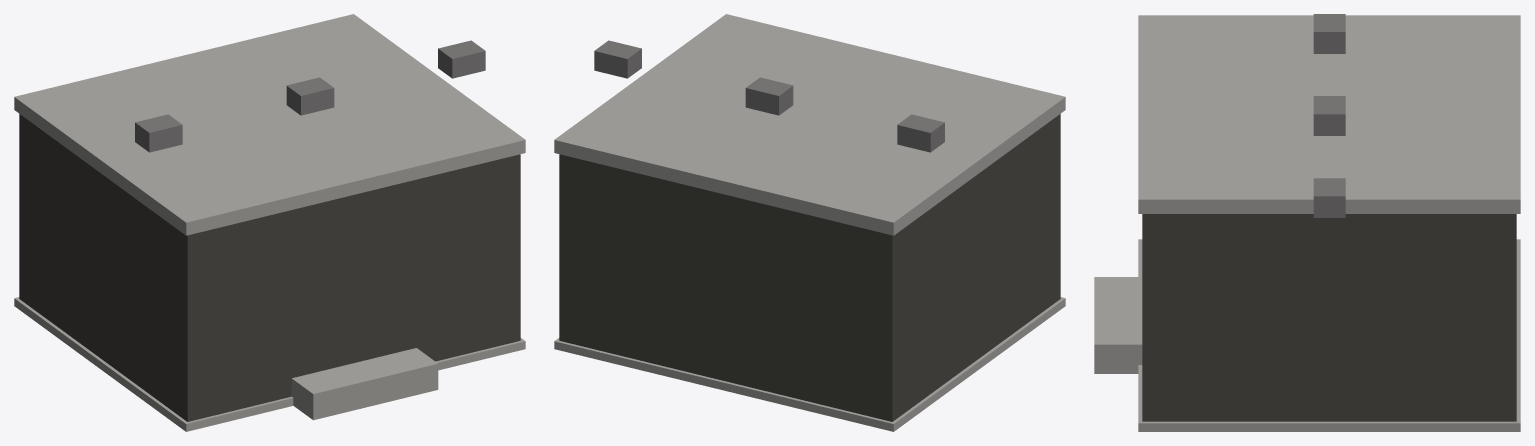
Rendered from b_ware1.glb.
3 views of the same model, side by side, from view 1: azimuth 30°, elevation 25°; view 2: azimuth 150°, elevation 25°; view 3: azimuth 270°, elevation 25° (orthographic). The views are drawn at different scales.
Parts seen in each view (by area): view 1: Building; view 2: Building; view 3: Building.
Boxes of the visible parts, <box> form: Building: <box>14,14,525,431</box>; Building: <box>554,14,1065,431</box>; Building: <box>1094,14,1520,431</box>.
Bounding box in the file's own units: 18.16 × 10.6 × 15.95.
Materials: 4 (2 with a texture image).
